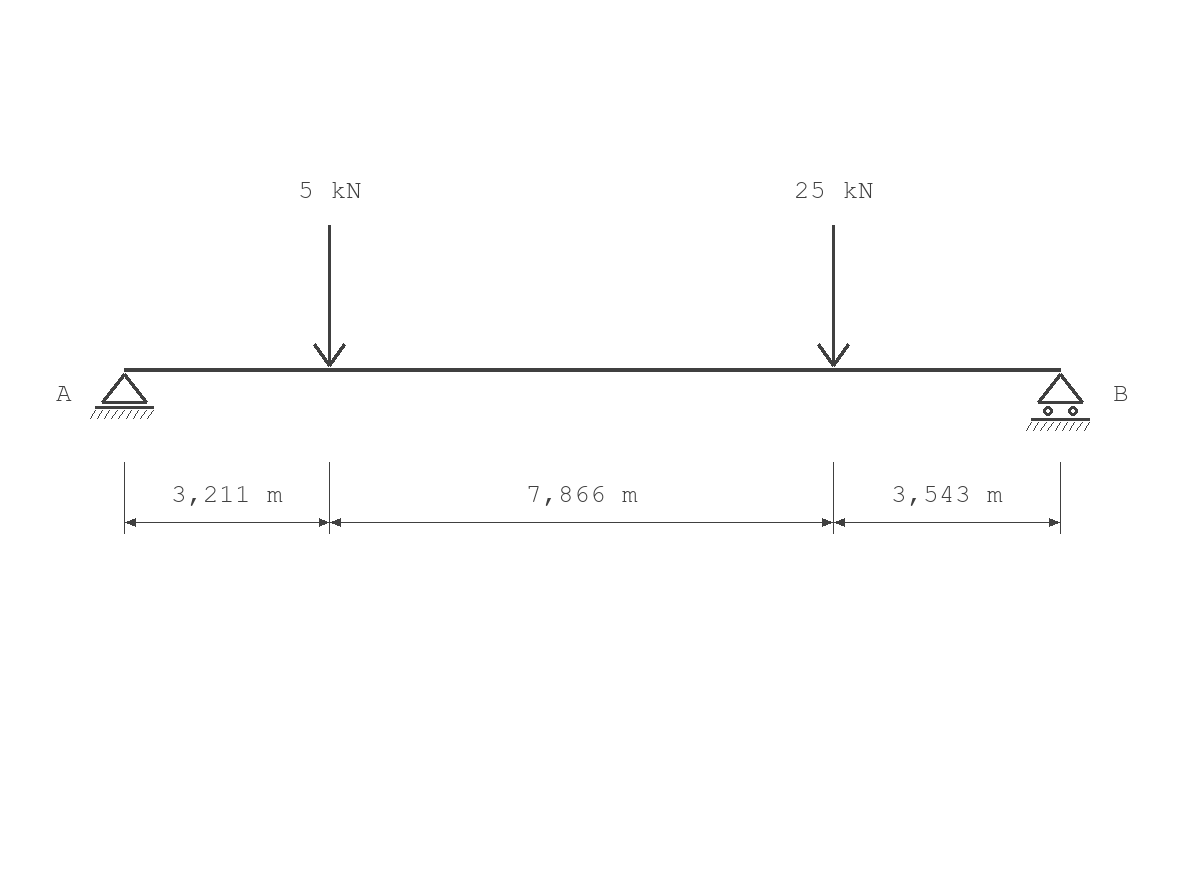pin_support: (90, 373, 154, 419)
point_load: (313, 225, 346, 367), (817, 225, 850, 367)
roller_support: (1026, 373, 1090, 431)
